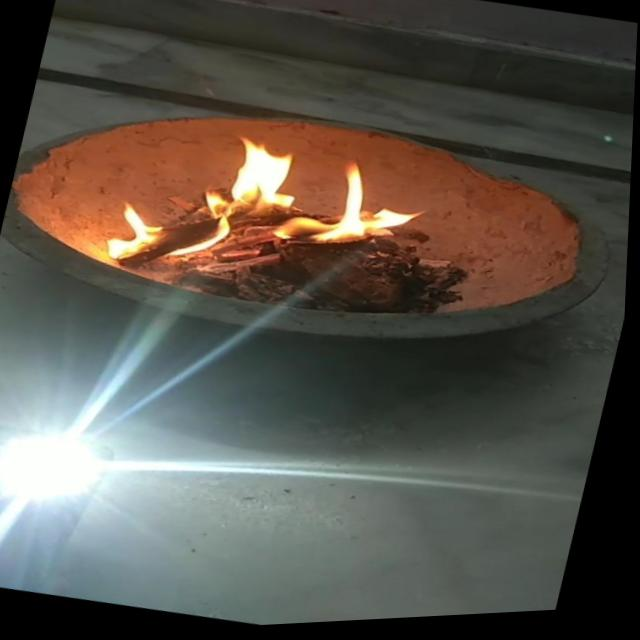fire: (166, 116, 443, 274), (94, 200, 177, 269)
